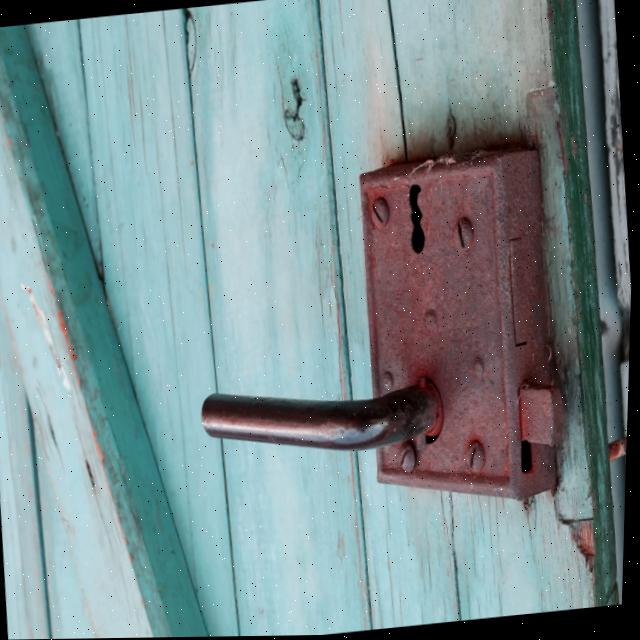corrosion: (361, 150, 565, 502), (203, 379, 447, 452), (521, 385, 565, 446)
